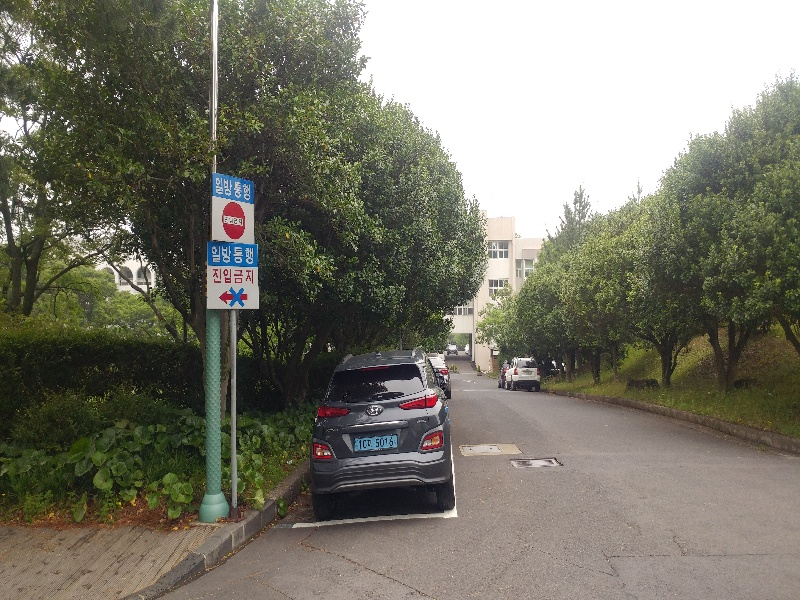Main Building: (393, 218, 555, 340)
